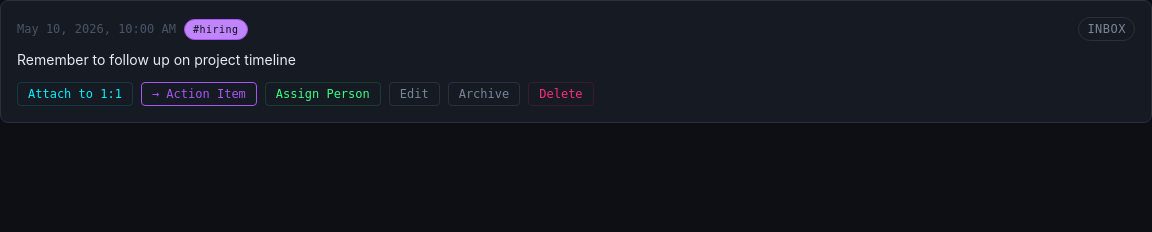
it: QuickNoteCard › should enter edit mode prefilled with current text and tag
What coordinates should you click on to do the following:
click the button with test id "quick-note-edit-btn"
I would click on:
 (414, 94)
Its box is [389,82,440,106].
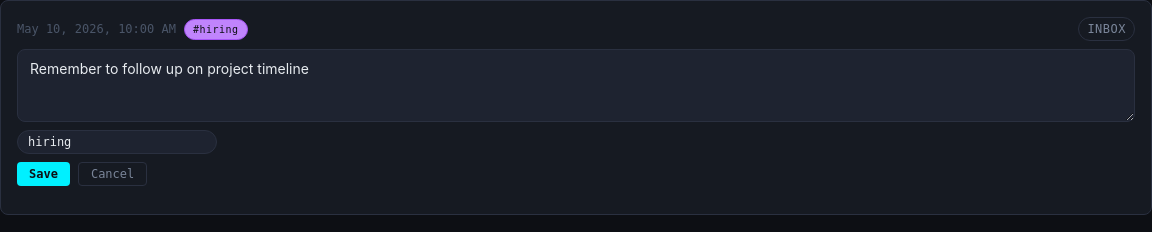
Now the text box with test id "quick-note-edit-text-input" holds "Remember to follow up on project timeline", box [17,49,1135,122]
Now the field with test id "quick-note-edit-tag-input" holds "hiring", box [17,130,217,154]
